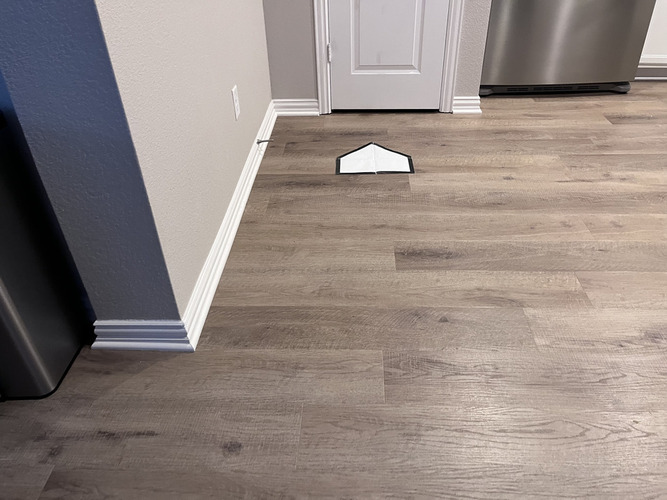homeplate: (336, 142, 414, 174)
